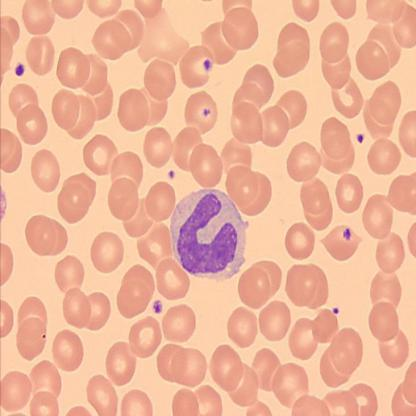Monocyte: (170, 187, 250, 282)
